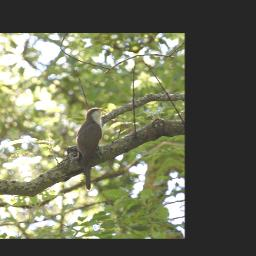Cuckoo: (61, 104, 131, 193)
